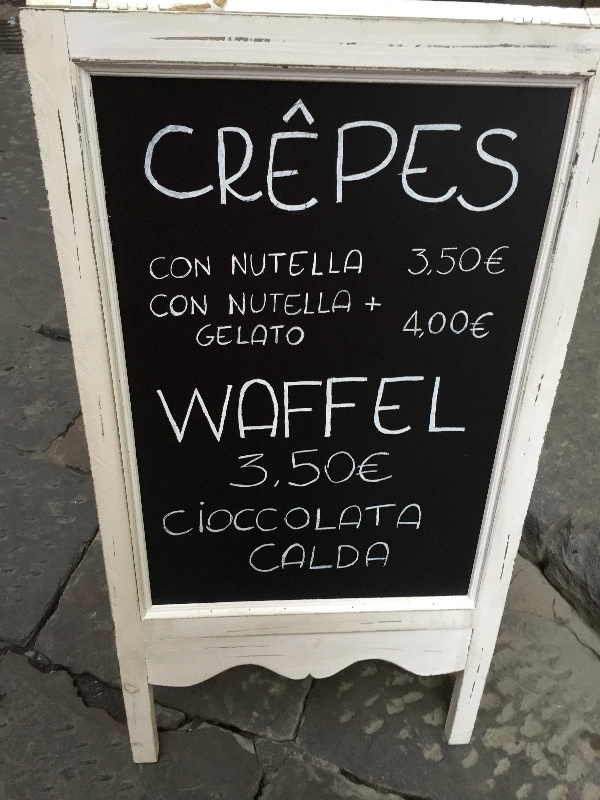text: (145, 113, 160, 231), (161, 113, 176, 231), (177, 113, 192, 231), (193, 113, 208, 231), (209, 113, 224, 231), (225, 113, 240, 231), (241, 113, 256, 231), (257, 113, 272, 231), (273, 113, 288, 231), (289, 113, 304, 231), (305, 113, 320, 231), (321, 113, 336, 231), (337, 113, 352, 231), (353, 113, 368, 231), (369, 113, 384, 231), (385, 113, 400, 231), (401, 113, 416, 231), (417, 113, 432, 231), (433, 113, 448, 231), (449, 113, 464, 231), (465, 113, 480, 231), (481, 113, 496, 231), (497, 113, 512, 231), (513, 113, 524, 231), (161, 370, 176, 452), (177, 370, 192, 452), (193, 370, 208, 452), (209, 370, 224, 452), (225, 370, 240, 452), (241, 370, 256, 452), (257, 370, 272, 452), (273, 370, 288, 452), (289, 370, 304, 452), (305, 370, 320, 452), (321, 370, 336, 452), (337, 370, 352, 452), (353, 370, 368, 452), (369, 370, 384, 452), (385, 370, 400, 452), (401, 370, 416, 452), (417, 370, 432, 452), (433, 370, 448, 452), (449, 370, 464, 452), (177, 489, 192, 550), (193, 489, 208, 550), (209, 489, 224, 550), (225, 489, 240, 550), (241, 489, 256, 550), (257, 489, 272, 550), (273, 489, 288, 550), (289, 489, 304, 550), (305, 489, 320, 550), (321, 489, 336, 550), (337, 489, 352, 550), (353, 489, 368, 550), (369, 489, 384, 550), (385, 489, 400, 550), (401, 489, 416, 550), (465, 370, 476, 452), (162, 489, 176, 550), (241, 446, 256, 494), (257, 446, 272, 494), (273, 446, 288, 494), (289, 446, 304, 494), (305, 446, 320, 494), (321, 446, 336, 494), (337, 446, 352, 494), (353, 446, 368, 494), (369, 446, 384, 494), (257, 536, 272, 581), (273, 536, 288, 581), (289, 536, 304, 581), (305, 536, 320, 581), (321, 536, 336, 581), (337, 536, 352, 581), (353, 536, 368, 581), (369, 536, 384, 581), (497, 241, 513, 281), (417, 303, 432, 345), (433, 303, 448, 345), (449, 303, 464, 345), (465, 303, 480, 345), (481, 303, 496, 345), (417, 241, 432, 281), (433, 241, 448, 281), (449, 241, 464, 281), (465, 241, 480, 281), (481, 241, 496, 281), (161, 250, 176, 289), (177, 250, 192, 289), (193, 250, 208, 289), (241, 246, 256, 285), (257, 246, 272, 285), (273, 246, 288, 285), (289, 246, 304, 285), (305, 246, 320, 285), (321, 246, 336, 285), (337, 246, 352, 285), (153, 370, 160, 452), (241, 287, 256, 322), (257, 287, 272, 322), (273, 287, 288, 322), (289, 287, 304, 322), (305, 287, 320, 322), (321, 287, 336, 322), (337, 287, 352, 322), (161, 289, 176, 323), (177, 289, 192, 323), (193, 289, 208, 323), (353, 246, 366, 285), (209, 320, 224, 353), (225, 320, 240, 353), (241, 320, 256, 353), (257, 320, 272, 353), (273, 320, 288, 353), (289, 320, 304, 353), (417, 489, 425, 550), (385, 446, 395, 494), (369, 292, 384, 322), (149, 250, 160, 289), (195, 320, 208, 353), (228, 287, 240, 322), (406, 303, 416, 345), (148, 289, 160, 323), (247, 536, 256, 581), (385, 536, 394, 581), (230, 246, 240, 285), (233, 446, 240, 494), (410, 241, 416, 281), (209, 250, 214, 289), (143, 113, 144, 231), (365, 292, 368, 322), (305, 320, 307, 353), (497, 303, 498, 345), (353, 287, 354, 322), (209, 289, 210, 323)
